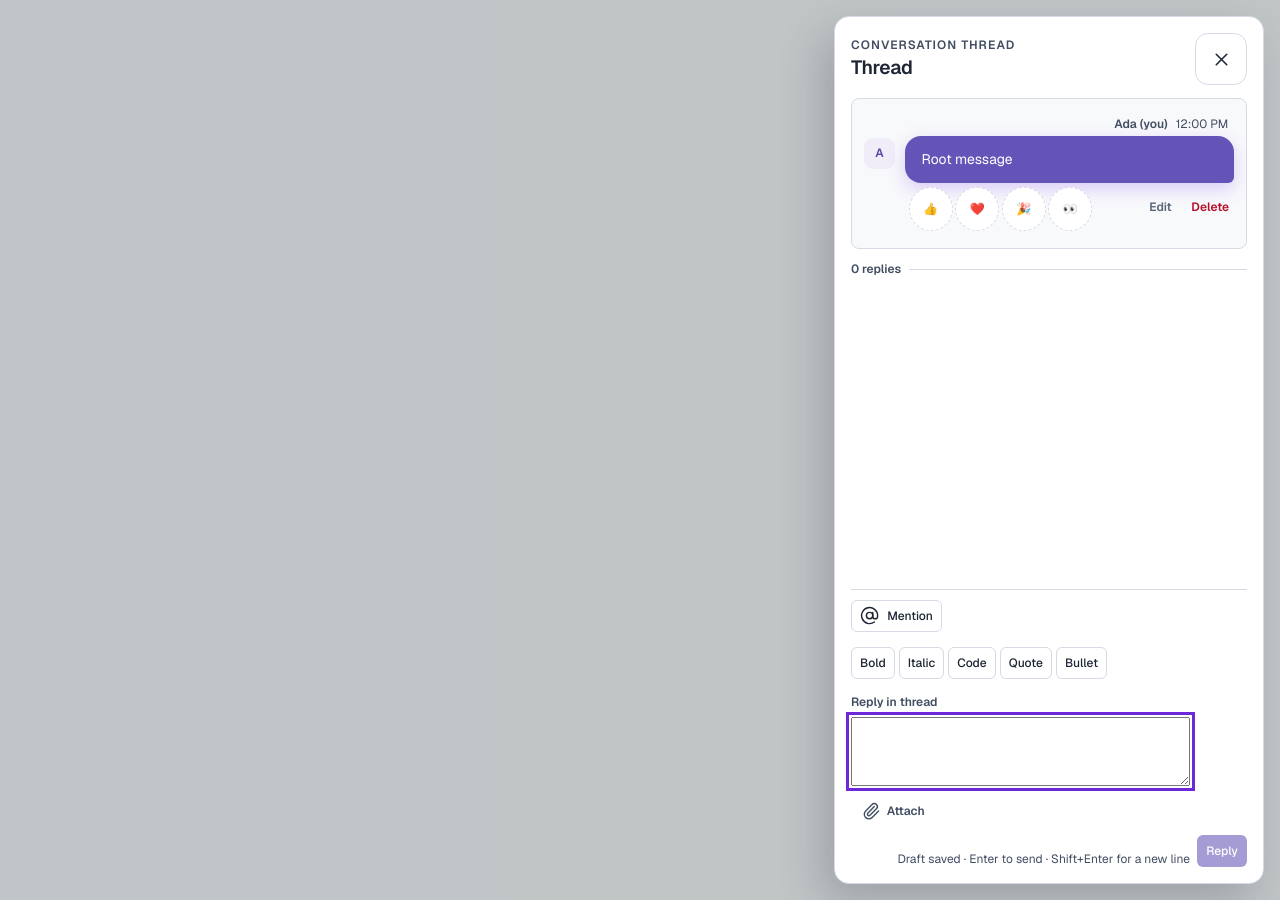
Test: ThreadDrawer message controls › keeps an edit draft on policy denial, then reconciles a successful retry
Click the button "Edit". click: [1160, 207]
box: [1138,185,1182,229]
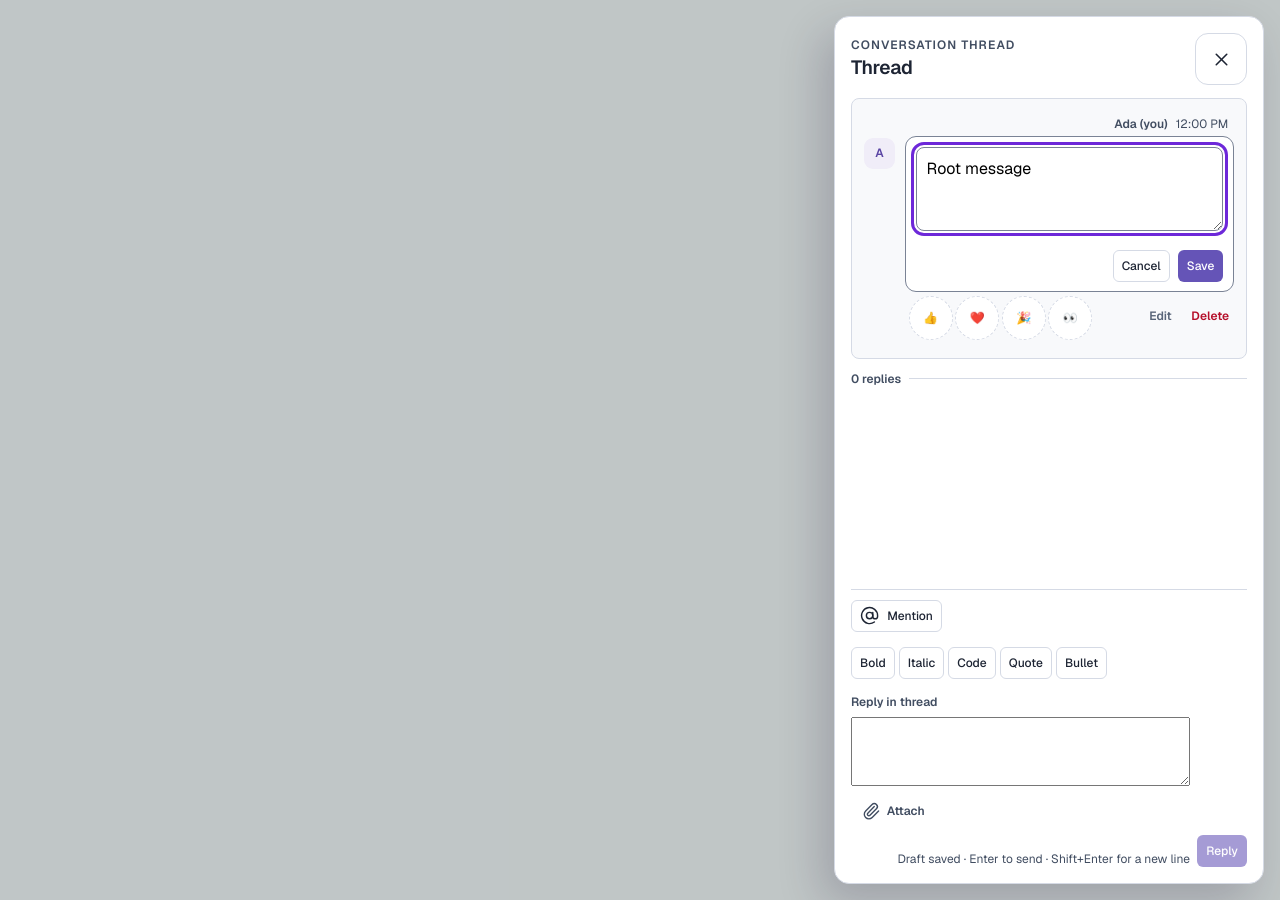
Replace the text in the text box named "Edit message" with "Revised root". click: [1070, 189]
box: [916,147,1223,231]
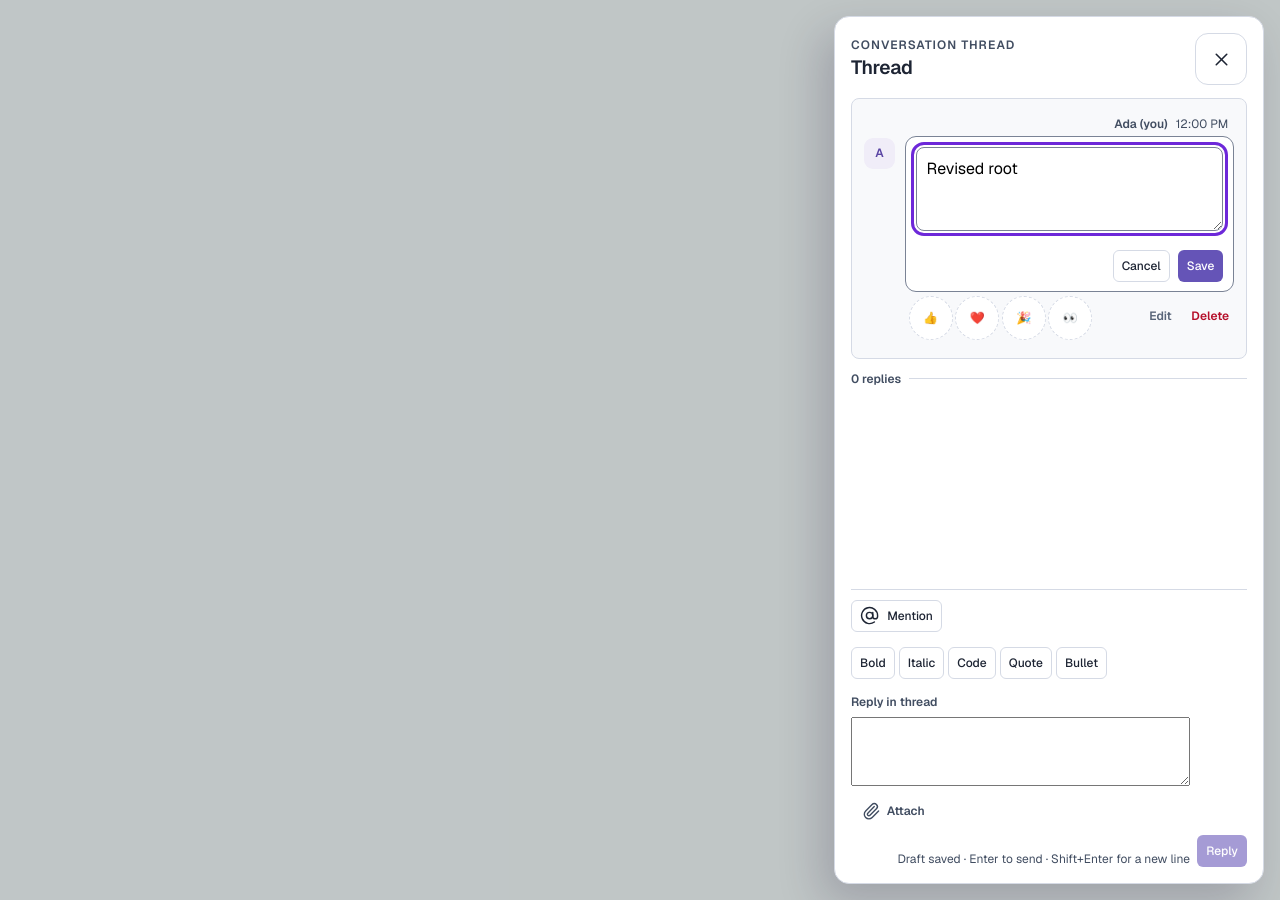
Click the button "Save". click: [1201, 266]
box: [1178,250,1223,282]
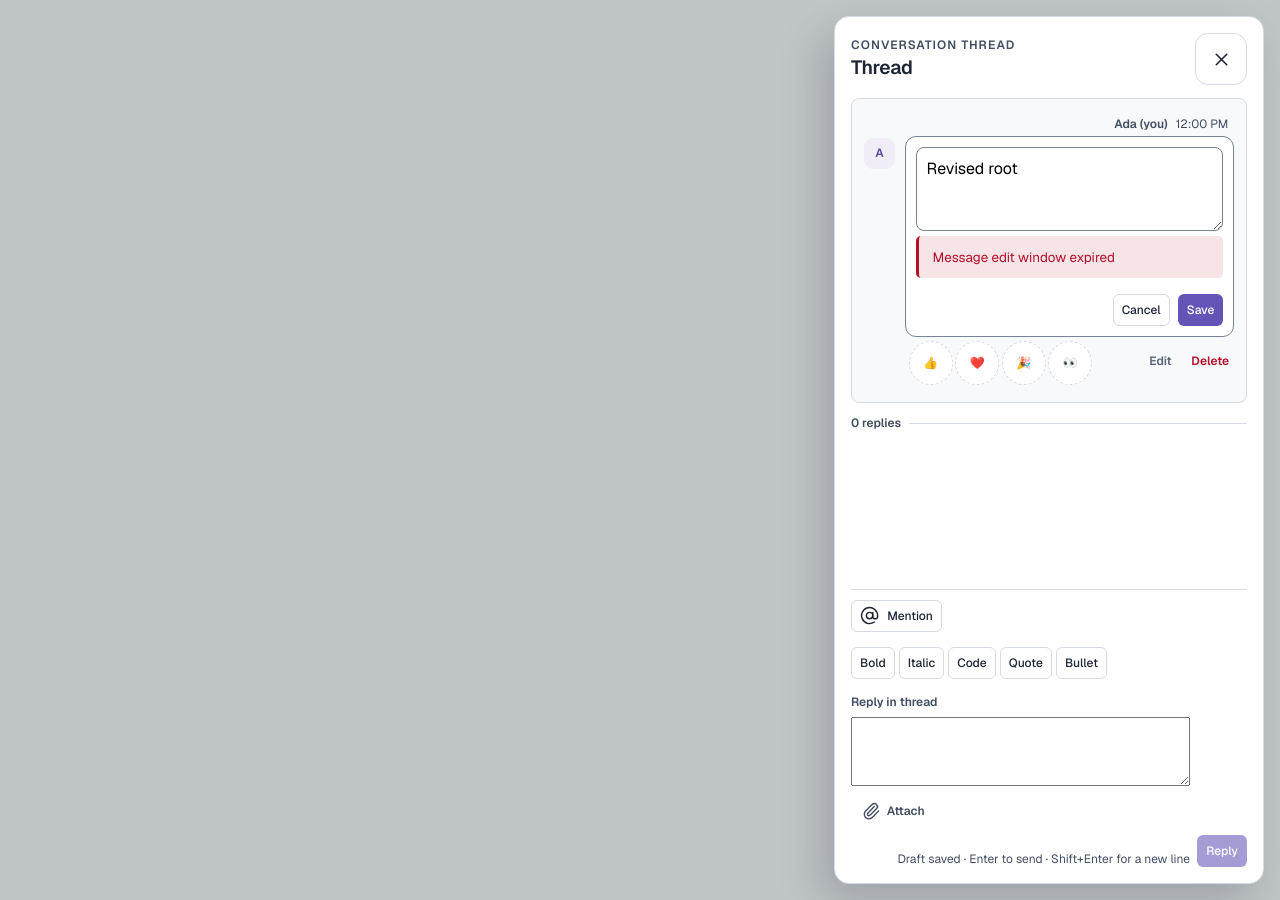
Expected: the message reads "Message edit window expired", [933,248,1115,266]
Click the button "Save". click: [1201, 310]
box: [1178,294,1223,326]
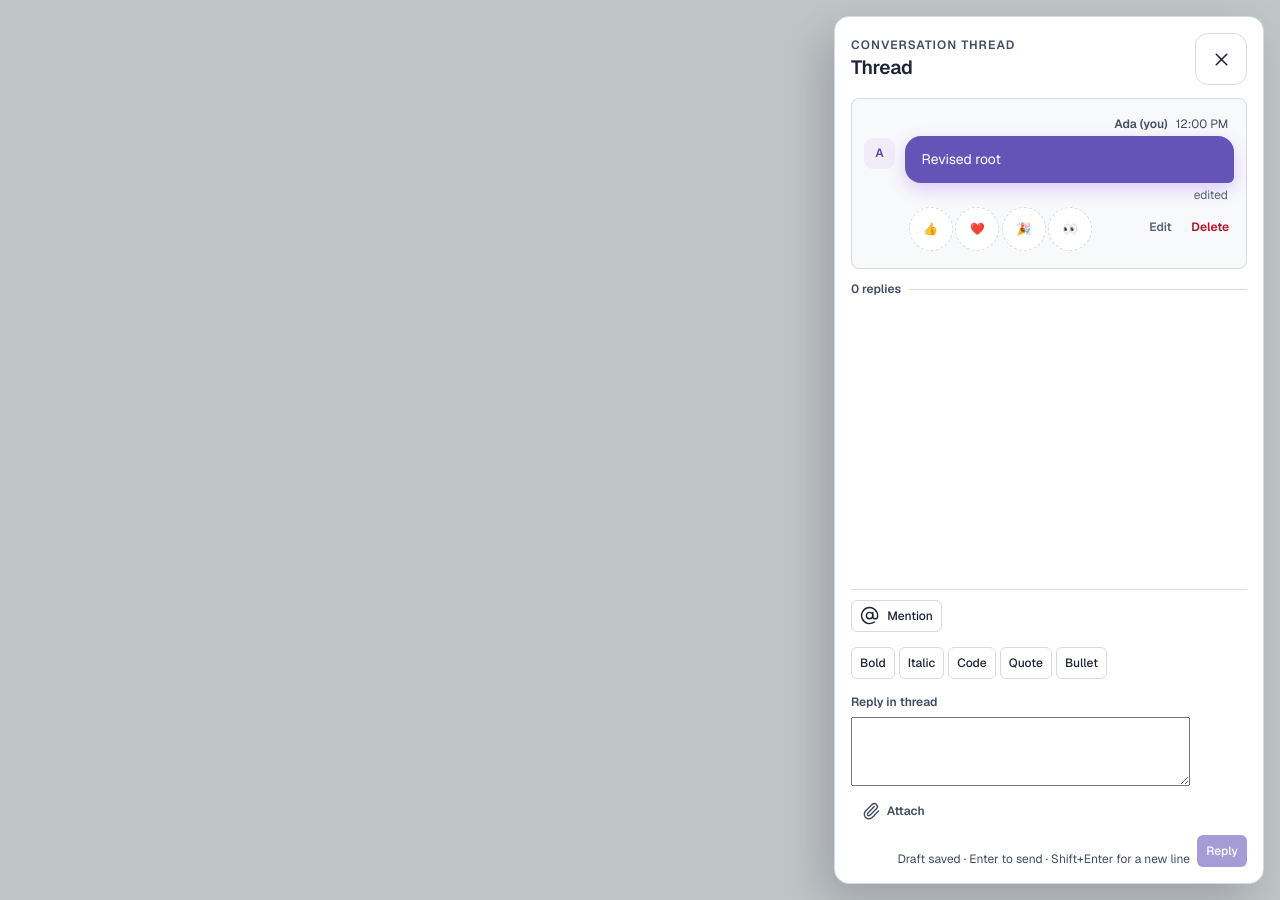
Expected: the text "Revised root" is shown, [922,150,1001,168]
